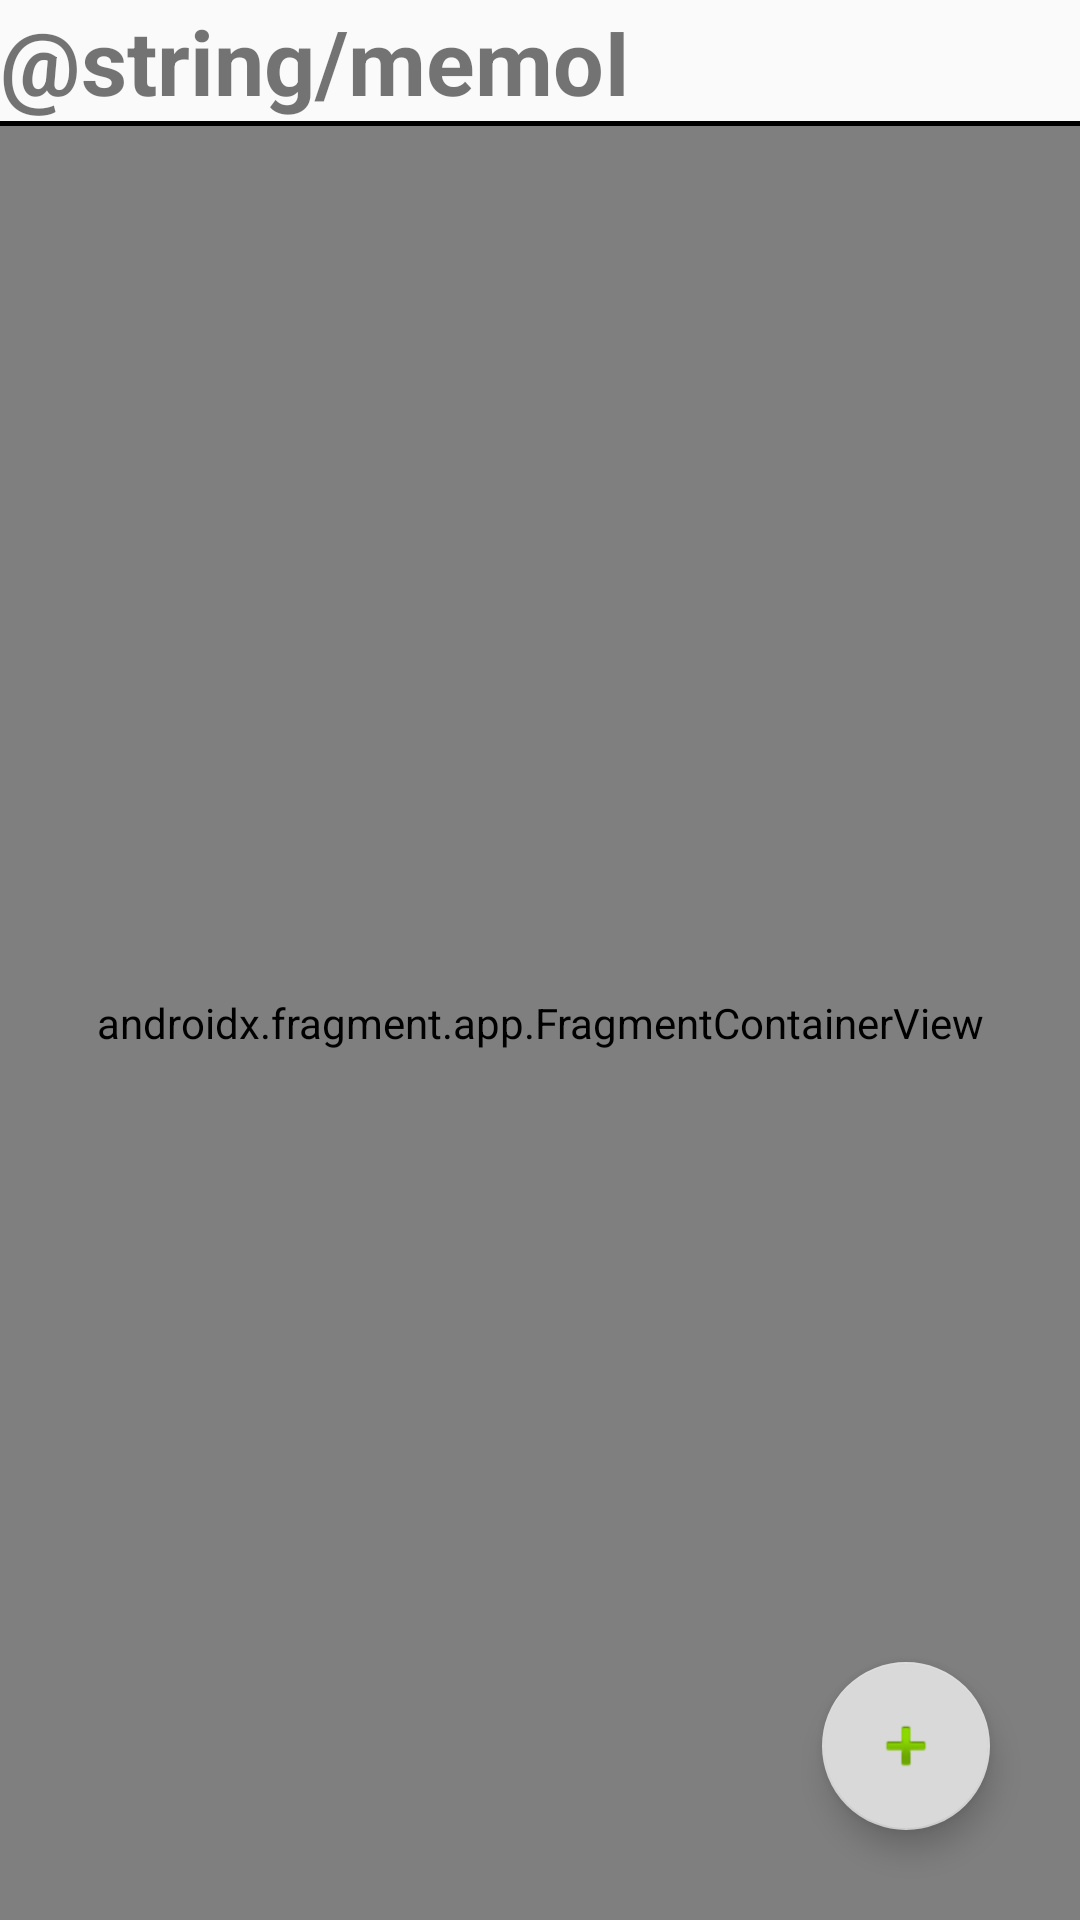

Named icons in this screenshot (1080w x 1920h) and their bounding boxes, (x1,y1,x2,y2):
add: (822,1662,990,1830)
